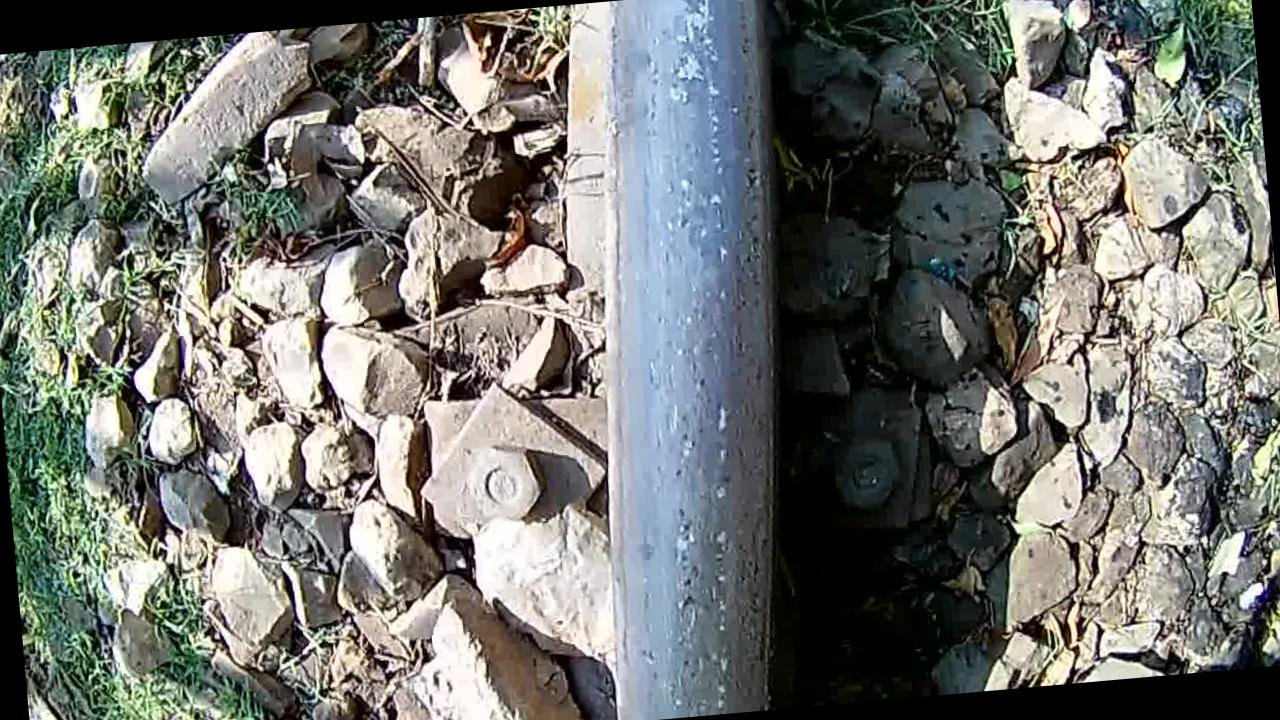clip_missing: (562, 0, 835, 720)
